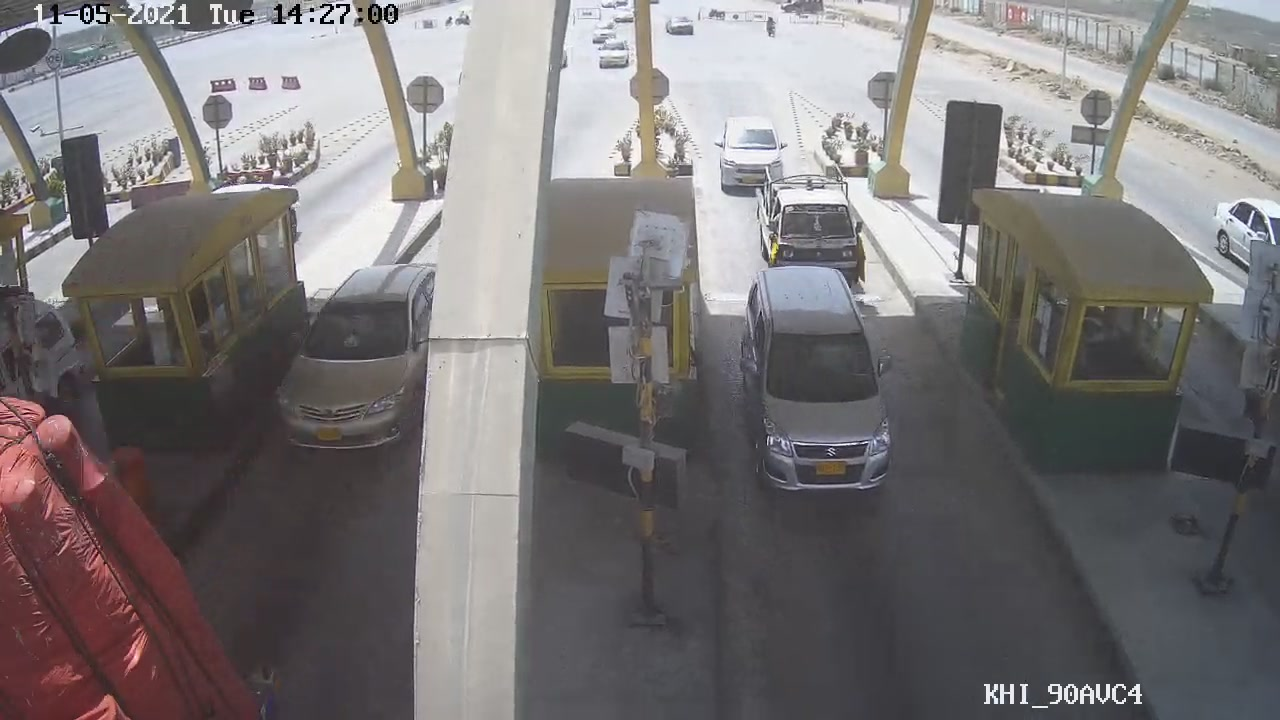F1: (737, 274, 902, 504)
